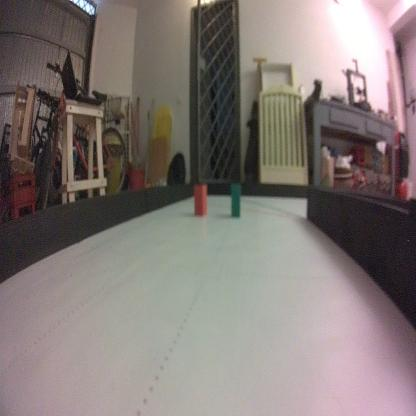green: (230, 181, 241, 218)
red: (192, 181, 208, 219)
